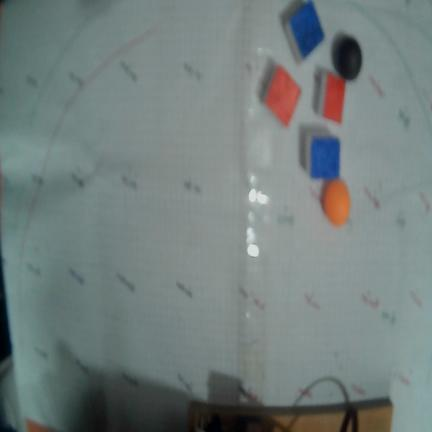circle_blue: (335, 39, 362, 80)
circle_orange: (322, 180, 350, 225)
rectangle_blue: (310, 136, 340, 178)
rectangle_orange: (324, 71, 345, 122)
square_blue: (288, 0, 324, 58)
square_orange: (264, 64, 301, 126)
